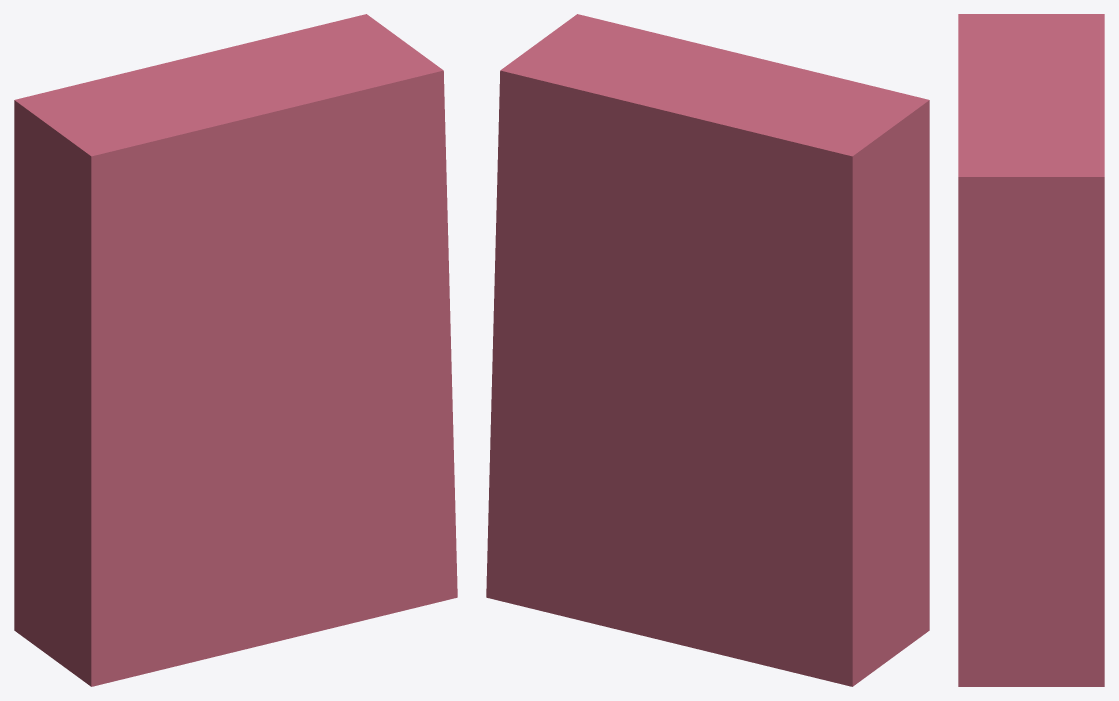
3 views of the same model, side by side, from view 1: azimuth 30°, elevation 25°; view 2: azimuth 150°, elevation 25°; view 3: azimuth 270°, elevation 25° (orthographic). The views are drawn at different scales.
Visible parts, largest first — view 1: geometry_0; view 2: geometry_0; view 3: geometry_0.
Boxes of the visible parts, x1=… form: geometry_0: x1=14, y1=14, x2=457, y2=686; geometry_0: x1=486, y1=14, x2=929, y2=686; geometry_0: x1=958, y1=14, x2=1104, y2=686.
Size of the model in its own units: 8.22 by 11.38 by 3.
